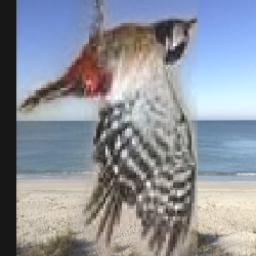Woodpecker: (17, 0, 199, 256)
